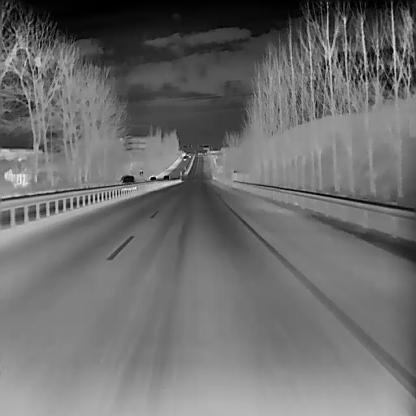car: (120, 175, 136, 189)
